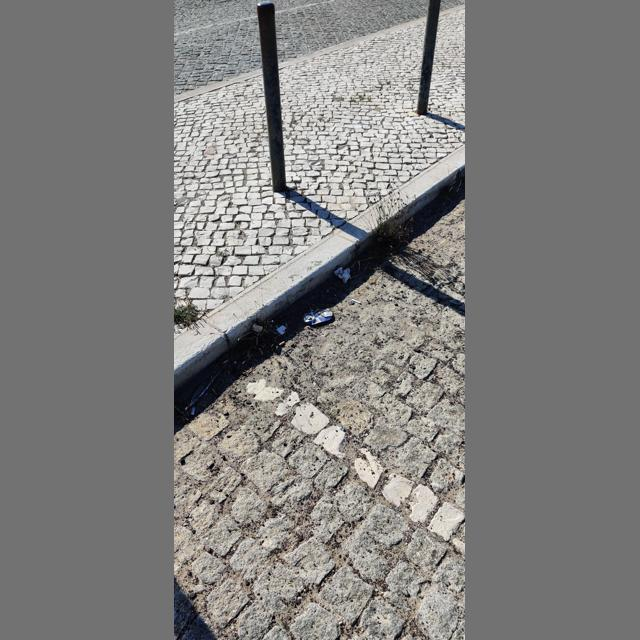litter: (185, 356, 227, 412), (303, 309, 333, 324), (335, 268, 351, 283), (277, 325, 287, 334), (251, 324, 262, 332), (351, 299, 361, 304), (212, 388, 218, 396), (220, 359, 229, 364), (258, 348, 264, 355), (313, 309, 320, 314), (279, 341, 286, 346), (246, 351, 251, 358), (305, 315, 311, 320), (191, 408, 195, 414), (285, 322, 288, 329), (318, 309, 322, 314), (325, 308, 330, 310)
